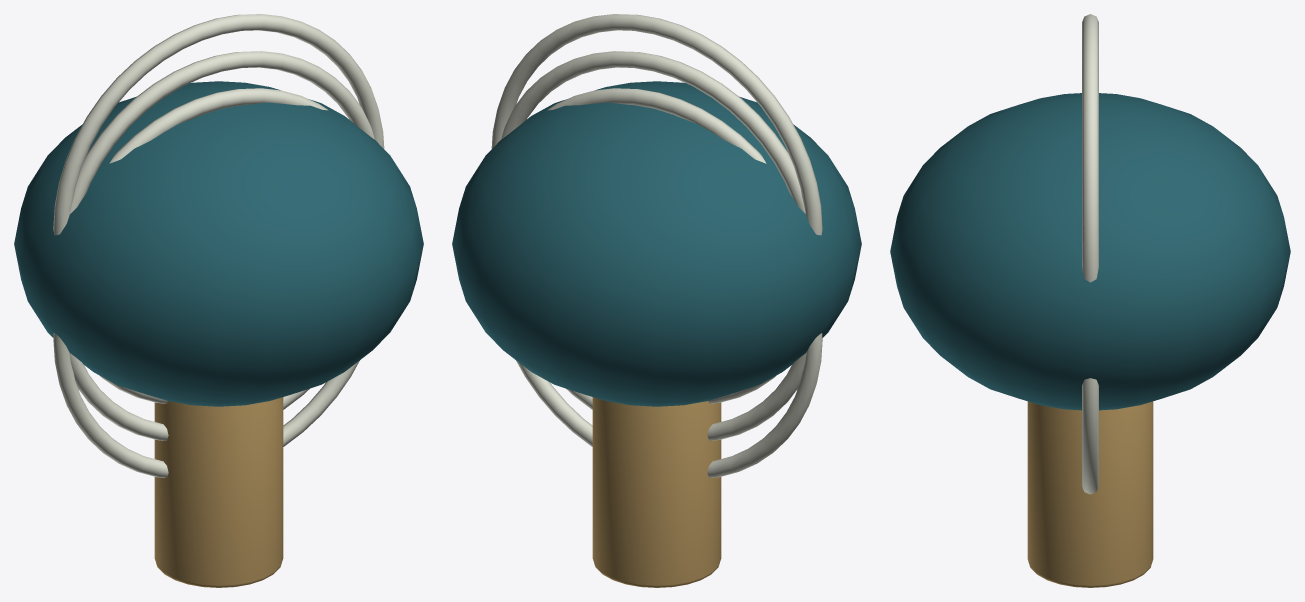
Rendered from handle.glb.
The picture shows the model from 3 angles, left to right: view 1: azimuth 30°, elevation 25°; view 2: azimuth 150°, elevation 25°; view 3: azimuth 270°, elevation 25°; orthographic projection. The views are drawn at different scales.
Visible parts, largest first — view 1: Deliberate grip, Short handle stem, Grip rib.003, Grip rib.002, Grip rib.001, Grip rib; view 2: Deliberate grip, Short handle stem, Grip rib.003, Grip rib.002, Grip rib.001, Grip rib; view 3: Deliberate grip, Short handle stem, Grip rib.003, Grip rib.
Boxes of the visible parts, box(x1,y1,x2,y2) form: Deliberate grip: box(14, 81, 423, 406); Short handle stem: box(154, 397, 283, 587); Grip rib.003: box(53, 14, 384, 235); Grip rib.002: box(70, 51, 374, 403); Grip rib.001: box(69, 88, 328, 440); Grip rib: box(53, 333, 359, 477); Deliberate grip: box(452, 81, 861, 406); Short handle stem: box(592, 397, 721, 587); Grip rib.003: box(491, 14, 822, 235); Grip rib.002: box(501, 51, 805, 403); Grip rib.001: box(547, 88, 806, 440); Grip rib: box(516, 333, 822, 477); Deliberate grip: box(890, 93, 1290, 410); Short handle stem: box(1027, 401, 1153, 587); Grip rib.003: box(1082, 14, 1098, 282); Grip rib: box(1082, 378, 1098, 494).
Size of the model in its own units: 0.07 by 0.1025 by 0.07.
